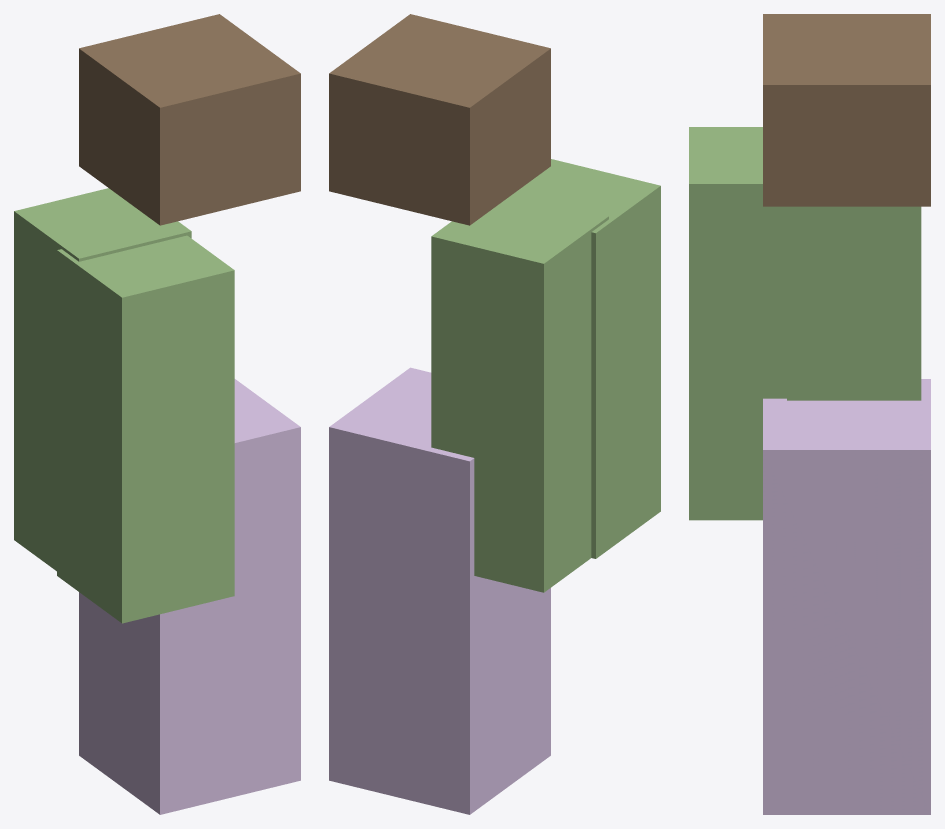
The model's file is Item_Herb_AMF_Howlroot_Bundle1.glb.
3 views of the same model, side by side, from view 1: azimuth 30°, elevation 25°; view 2: azimuth 150°, elevation 25°; view 3: azimuth 270°, elevation 25° (orthographic). The views are drawn at different scales.
Visible parts, largest first — view 1: Item_Herb_AMF_Howlroot_Bundle1; view 2: Item_Herb_AMF_Howlroot_Bundle1; view 3: Item_Herb_AMF_Howlroot_Bundle1.
Part boxes in pixels (<box>): Item_Herb_AMF_Howlroot_Bundle1: <box>14,14,300,814</box>; Item_Herb_AMF_Howlroot_Bundle1: <box>329,14,660,814</box>; Item_Herb_AMF_Howlroot_Bundle1: <box>689,14,930,814</box>.
Size of the model in its own units: 0.0762 by 0.24 by 0.0721.
